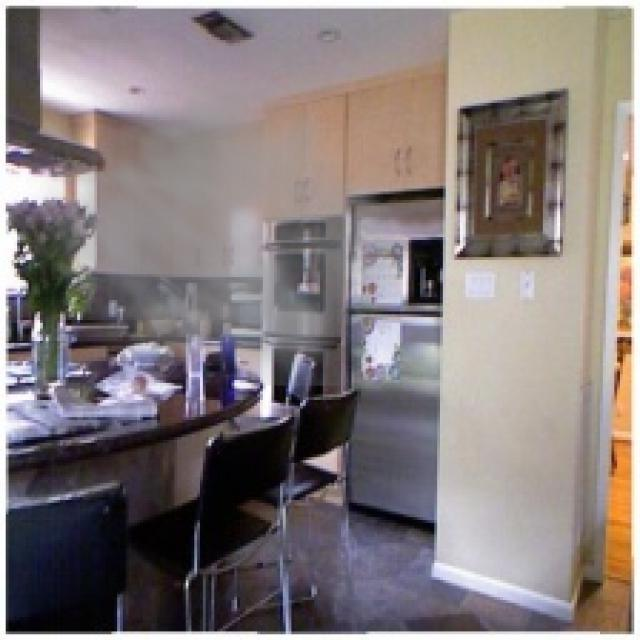Smoke: (14, 40, 429, 386)
